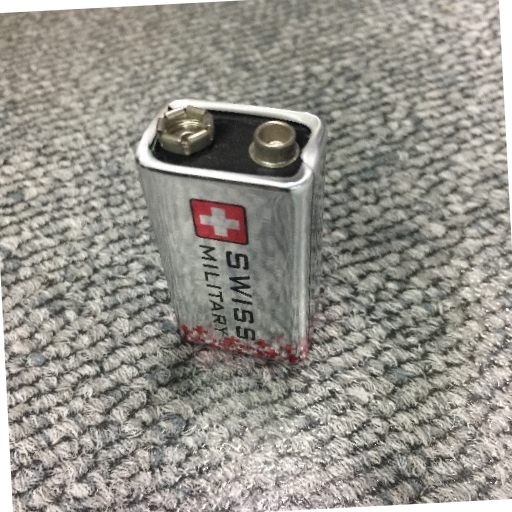Battery_3: (119, 86, 351, 385)
